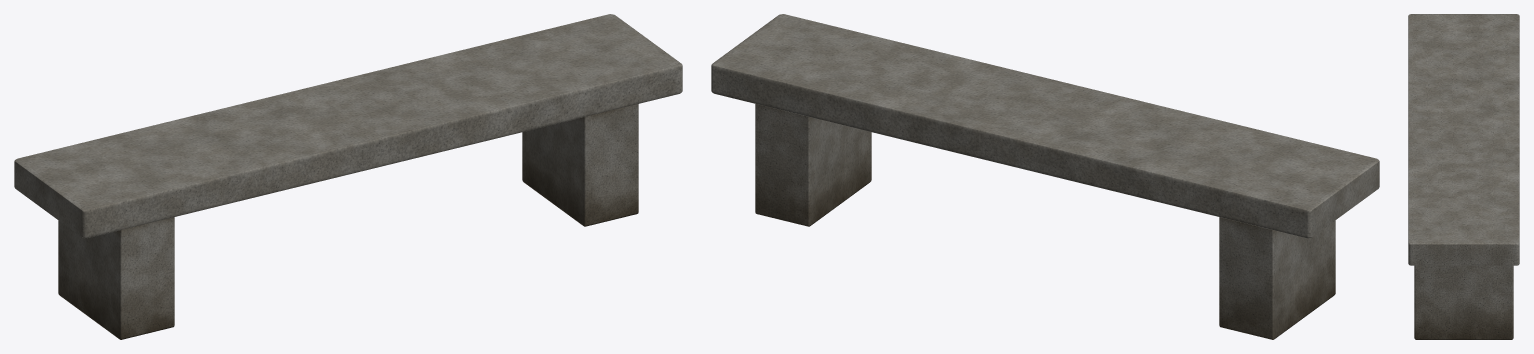
Rendered from banco_patio_sujo_realista.glb.
3 views of the same model, side by side, from view 1: azimuth 30°, elevation 25°; view 2: azimuth 150°, elevation 25°; view 3: azimuth 270°, elevation 25° (orthographic). The views are drawn at different scales.
Parts seen in each view (by area): view 1: Banco_Patio_PBR; view 2: Banco_Patio_PBR; view 3: Banco_Patio_PBR.
Part boxes in pixels (x1,y1,x2,y2): Banco_Patio_PBR: [14, 14, 682, 339]; Banco_Patio_PBR: [711, 14, 1379, 339]; Banco_Patio_PBR: [1408, 14, 1519, 339].
Size of the model in its own units: 2.2 by 0.5 by 0.45.
Materials: 1 (1 with a texture image).
